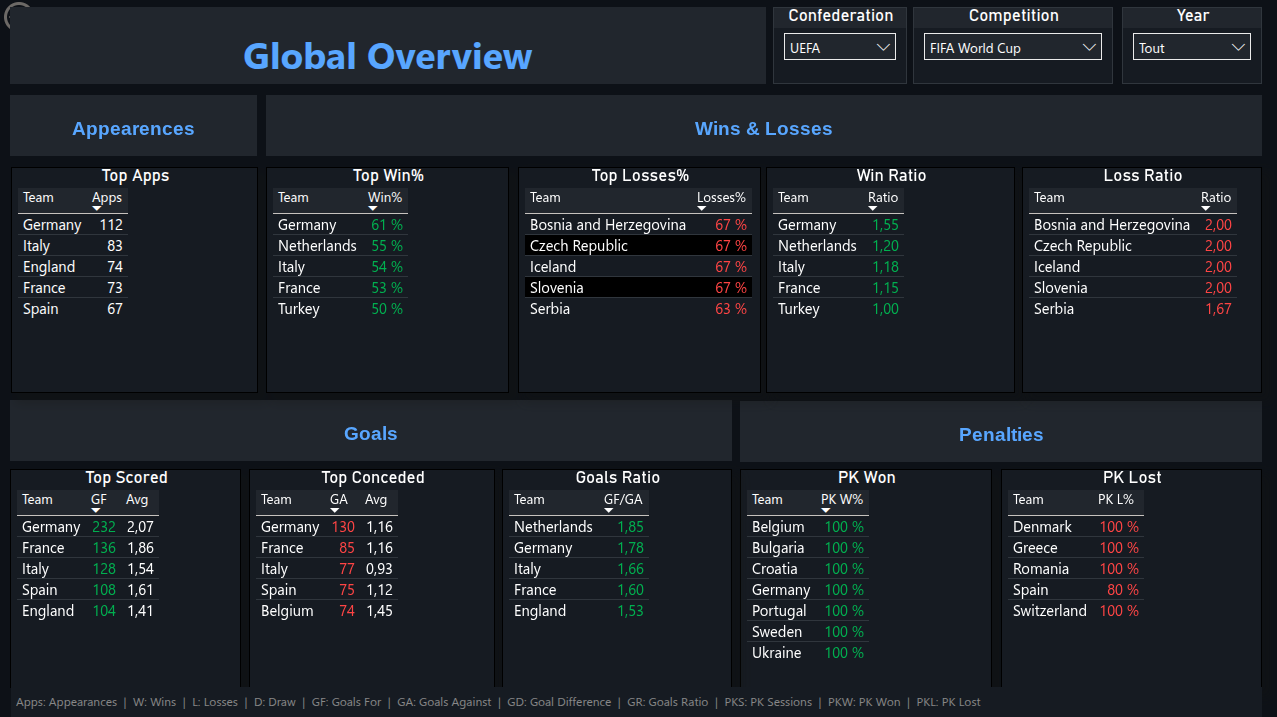

The dashboard page shown, as its layout file describes it:
{"tool":"powerbi","page":{"name":"Global Overview","canvas":[1280,720],"ordinal":1},"visuals":[{"type":"actionButton","box":[0,0,100,40],"z":0},{"type":"slicer","title":"Confederation","fields":{"Values":["dim_country.confederation"]},"box":[774,10,134,77],"z":1000},{"type":"textbox","box":[11,403,722,61],"z":2000},{"type":"tableEx","title":"Top Scored","fields":{"Values":["dim_country.canonical_name","dim_country.Total Goals","dim_country.Avg Goals Scored"]},"box":[11,472,231,219],"z":3000},{"type":"slicer","title":"Competition","fields":{"Values":["dim_tournament.tournament"]},"box":[914,10,200,77],"z":4000},{"type":"slicer","title":"Year","fields":{"Values":["dim_date.decade Hiérarchie.decade","dim_date.decade Hiérarchie.year"]},"box":[1123,10,140,77],"z":5000},{"type":"textbox","box":[267,98,996,61],"z":6000},{"type":"textbox","box":[11,98,247,61],"z":7000},{"type":"textbox","box":[741,404,522,61],"z":8000},{"type":"tableEx","title":"Top Conceded","fields":{"Values":["dim_country.canonical_name","dim_country.Goals Conceded","dim_country.Avg Goals Conceded"]},"box":[250,472,246,219],"z":9000},{"type":"tableEx","title":"Top Apps","fields":{"Values":["dim_country.canonical_name","dim_country.Matchs Played"]},"box":[12,170,247,226],"z":10000},{"type":"tableEx","title":"Top Win%","fields":{"Values":["dim_country.canonical_name","dim_country.% Total Wins"]},"box":[267,170,243,226],"z":11000},{"type":"tableEx","title":"Top Losses%","fields":{"Values":["dim_country.canonical_name","dim_country.% Total Losses"]},"box":[519,170,243,226],"z":12000},{"type":"tableEx","title":"PK Won","fields":{"Values":["dim_country.canonical_name","dim_country.% Penalty Sessions Won"]},"box":[741,472,252,219],"z":13000},{"type":"tableEx","title":"PK Lost","fields":{"Values":["dim_country.canonical_name","dim_country.% Penalty Sessions Lost"]},"box":[1002,472,261,219],"z":14000},{"type":"tableEx","title":"Win Ratio","fields":{"Values":["dim_country.canonical_name","dim_country.Win Ratio"]},"box":[767,170,249,226],"z":15000},{"type":"tableEx","title":"Loss Ratio","fields":{"Values":["dim_country.canonical_name","dim_country.Loss Ratio"]},"box":[1023,170,240,226],"z":16000},{"type":"tableEx","title":"Goals Ratio","fields":{"Values":["dim_country.canonical_name","dim_country.Goals Ratio"]},"box":[503,472,230,219],"z":17000},{"type":"textbox","box":[11,10,756,77],"z":18000},{"type":"textbox","box":[12,690,1251,30],"z":19000}]}

Visuals, with their boxes in screenshot pixels (x1, y1, x2, y2), scaled from the page's 1280x720 canvas onto the 1277x717 screenshot:
actionButton: <bbox>0, 0, 100, 40</bbox>
"Confederation" slicer: <bbox>772, 10, 906, 87</bbox>
textbox: <bbox>11, 401, 731, 462</bbox>
"Top Scored" tableEx: <bbox>11, 470, 241, 688</bbox>
"Competition" slicer: <bbox>912, 10, 1111, 87</bbox>
"Year" slicer: <bbox>1120, 10, 1260, 87</bbox>
textbox: <bbox>266, 98, 1260, 158</bbox>
textbox: <bbox>11, 98, 257, 158</bbox>
textbox: <bbox>739, 402, 1260, 463</bbox>
"Top Conceded" tableEx: <bbox>249, 470, 495, 688</bbox>
"Top Apps" tableEx: <bbox>12, 169, 258, 394</bbox>
"Top Win%" tableEx: <bbox>266, 169, 509, 394</bbox>
"Top Losses%" tableEx: <bbox>518, 169, 760, 394</bbox>
"PK Won" tableEx: <bbox>739, 470, 991, 688</bbox>
"PK Lost" tableEx: <bbox>1000, 470, 1260, 688</bbox>
"Win Ratio" tableEx: <bbox>765, 169, 1014, 394</bbox>
"Loss Ratio" tableEx: <bbox>1021, 169, 1260, 394</bbox>
"Goals Ratio" tableEx: <bbox>502, 470, 731, 688</bbox>
textbox: <bbox>11, 10, 765, 87</bbox>
textbox: <bbox>12, 687, 1260, 716</bbox>
